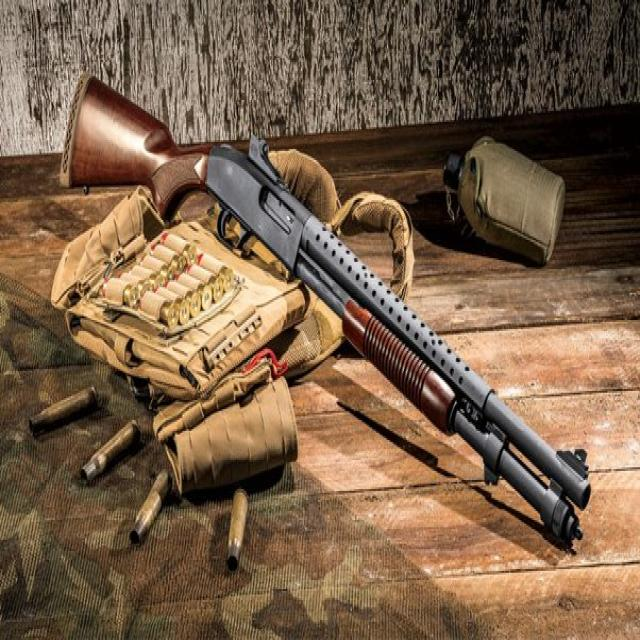ShotGun: (64, 78, 592, 545)
